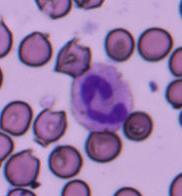N: (70, 62, 134, 132)
